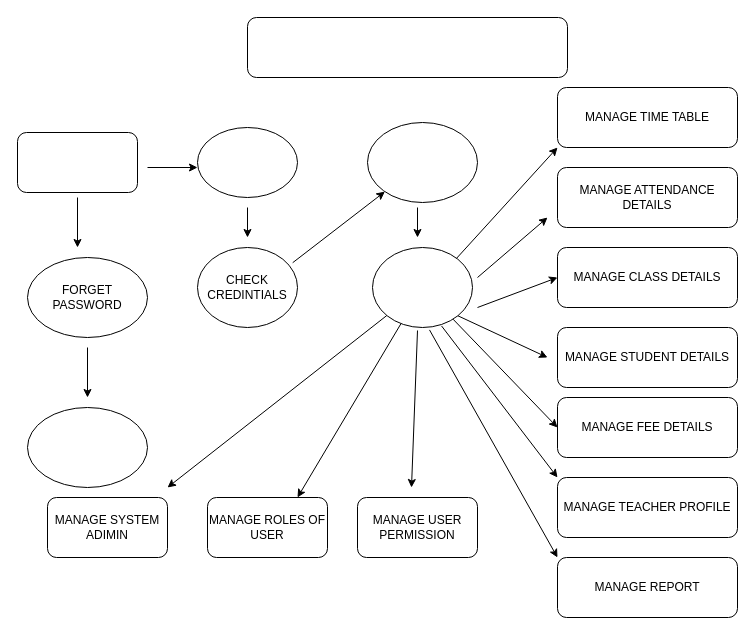
Some shapes in this 755 by 635 pixel diagram are drawn without their labels. Each missing label, with the centre of its shape:
ADMIN: the point at 77,162
CHECK ROLES OF ACCESS: the point at 422,162
LOGIN TO SYSTEM: the point at 247,162
MANAGE MODULES: the point at 422,287
SEND EMAIL TO USER: the point at 87,447
STUDENT INFORMATION SYSTEM: the point at 407,47
